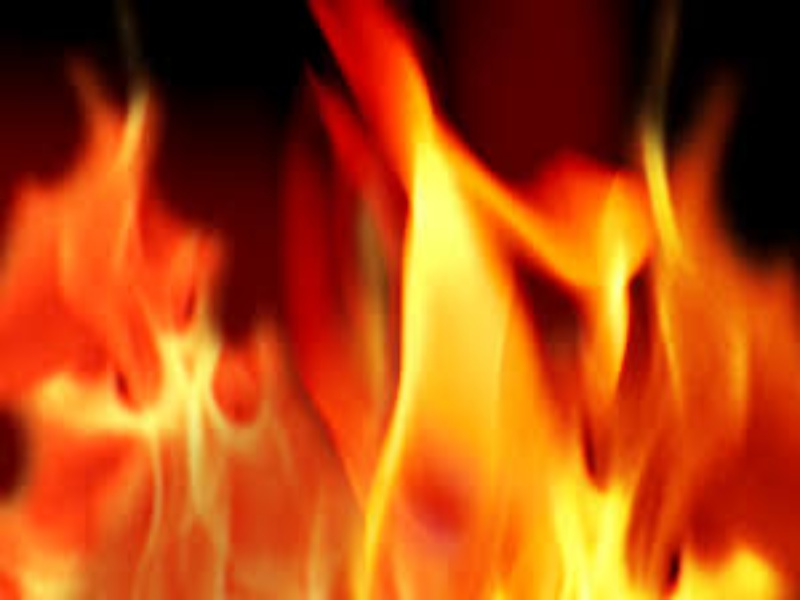fire: (5, 8, 800, 600)
